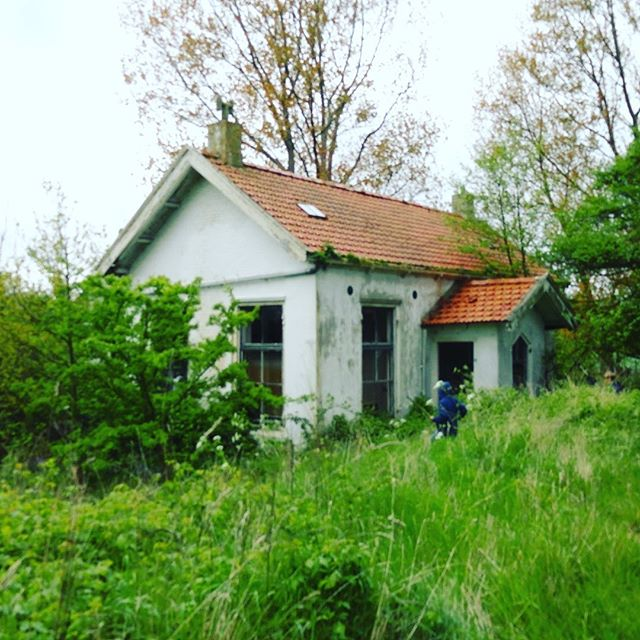building: (75, 162, 568, 466)
grass: (1, 410, 632, 640)
tree: (1, 268, 260, 513), (475, 13, 640, 368), (137, 1, 428, 182)
